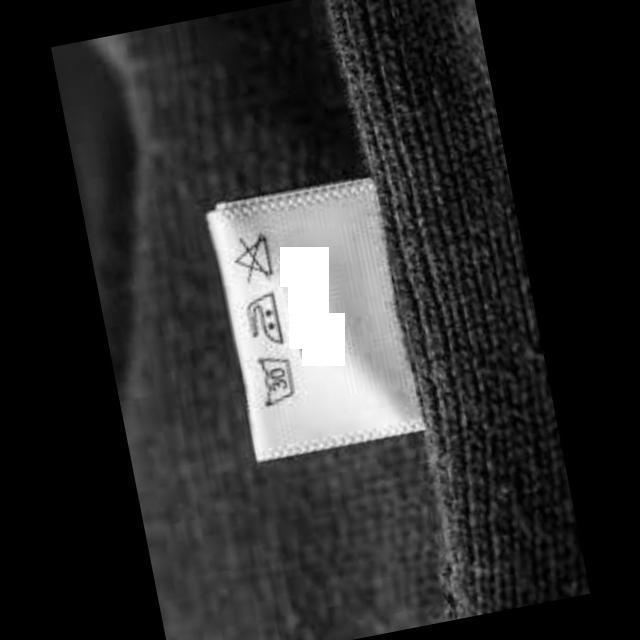30C: (252, 349, 302, 410)
DN_bleach: (227, 227, 279, 288)
iron_medium: (239, 288, 287, 352)
